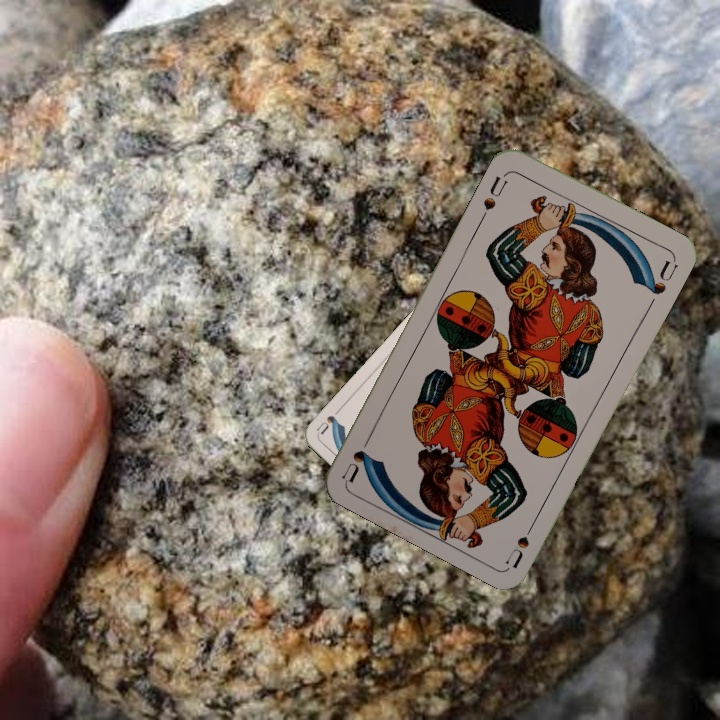SU: (501, 513, 541, 569), (477, 168, 511, 223)
